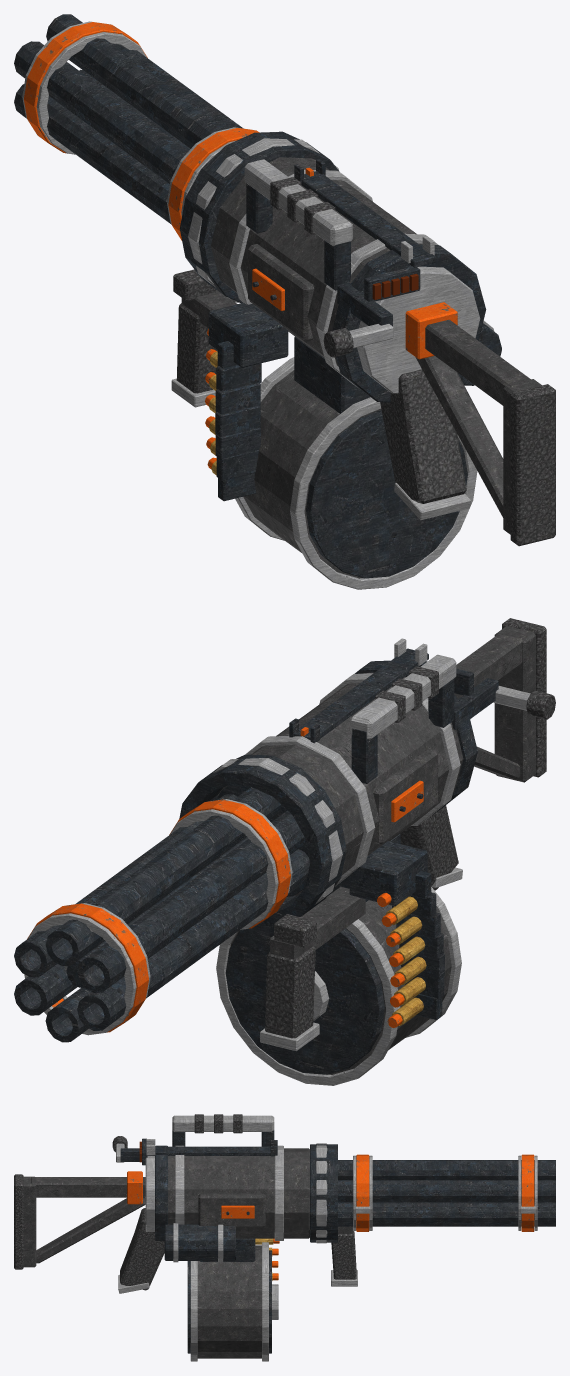
File: hydra.glb
The picture shows the model from 3 angles, top to bottom: view 1: azimuth 30°, elevation 25°; view 2: azimuth 150°, elevation 25°; view 3: azimuth 270°, elevation 25°; orthographic projection. The views are drawn at different scales.
Visible parts, largest first — view 1: body, mag, minigun_barrel_2, minigun_barrel_1, minigun_barrel_3, bolt, minigun_collar_front, minigun_collar_trim_front, minigun_collar_rear, minigun_barrel_0; view 2: body, mag, minigun_barrel_1, minigun_barrel_2, minigun_barrel_3, minigun_barrel_0, bolt, minigun_collar_front, minigun_collar_rear, minigun_collar_trim_front, minigun_collar_trim_rear, minigun_barrel_5 (+2 smaller); view 3: body, mag, minigun_barrel_0, minigun_barrel_5, minigun_barrel_1, minigun_collar_front, minigun_collar_rear, minigun_collar_trim_rear, minigun_collar_trim_front, minigun_barrel_4, bolt.
Part boxes in pixels (x1=…): body: x1=171, y1=131, x2=555, y2=546; mag: x1=205, y1=329, x2=477, y2=589; minigun_barrel_2: x1=14, y1=41, x2=188, y2=184; minigun_barrel_1: x1=46, y1=14, x2=227, y2=148; minigun_barrel_3: x1=14, y1=84, x2=171, y2=224; bolt: x1=323, y1=282, x2=393, y2=357; minigun_collar_front: x1=23, y1=22, x2=147, y2=153; minigun_collar_trim_front: x1=22, y1=21, x2=147, y2=154; minigun_collar_rear: x1=168, y1=128, x2=259, y2=240; minigun_barrel_0: x1=112, y1=43, x2=243, y2=128; body: x1=179, y1=618, x2=546, y2=1051; mag: x1=216, y1=834, x2=461, y2=1085; minigun_barrel_1: x1=45, y1=787, x2=281, y2=965; minigun_barrel_2: x1=77, y1=810, x2=306, y2=992; minigun_barrel_3: x1=77, y1=849, x2=309, y2=1030; minigun_barrel_0: x1=14, y1=794, x2=237, y2=977; bolt: x1=451, y1=678, x2=555, y2=729; minigun_collar_front: x1=27, y1=903, x2=148, y2=1032; minigun_collar_rear: x1=169, y1=799, x2=290, y2=928; minigun_collar_trim_front: x1=24, y1=903, x2=150, y2=1035; minigun_collar_trim_rear: x1=170, y1=799, x2=292, y2=929; minigun_barrel_5: x1=14, y1=963, x2=77, y2=1015; body: x1=14, y1=1114, x2=357, y2=1293; mag: x1=187, y1=1238, x2=279, y2=1361; minigun_barrel_0: x1=338, y1=1180, x2=555, y2=1202; minigun_barrel_5: x1=338, y1=1202, x2=555, y2=1224; minigun_barrel_1: x1=338, y1=1160, x2=555, y2=1179; minigun_collar_front: x1=521, y1=1154, x2=534, y2=1231; minigun_collar_rear: x1=356, y1=1154, x2=369, y2=1231; minigun_collar_trim_rear: x1=353, y1=1155, x2=372, y2=1230; minigun_collar_trim_front: x1=518, y1=1155, x2=537, y2=1230; minigun_barrel_4: x1=338, y1=1224, x2=555, y2=1226; bolt: x1=112, y1=1136, x2=139, y2=1162.
Bounding box in the file's own units: 0.2789 × 0.482 × 1.06.
8 materials, 7 textured.
